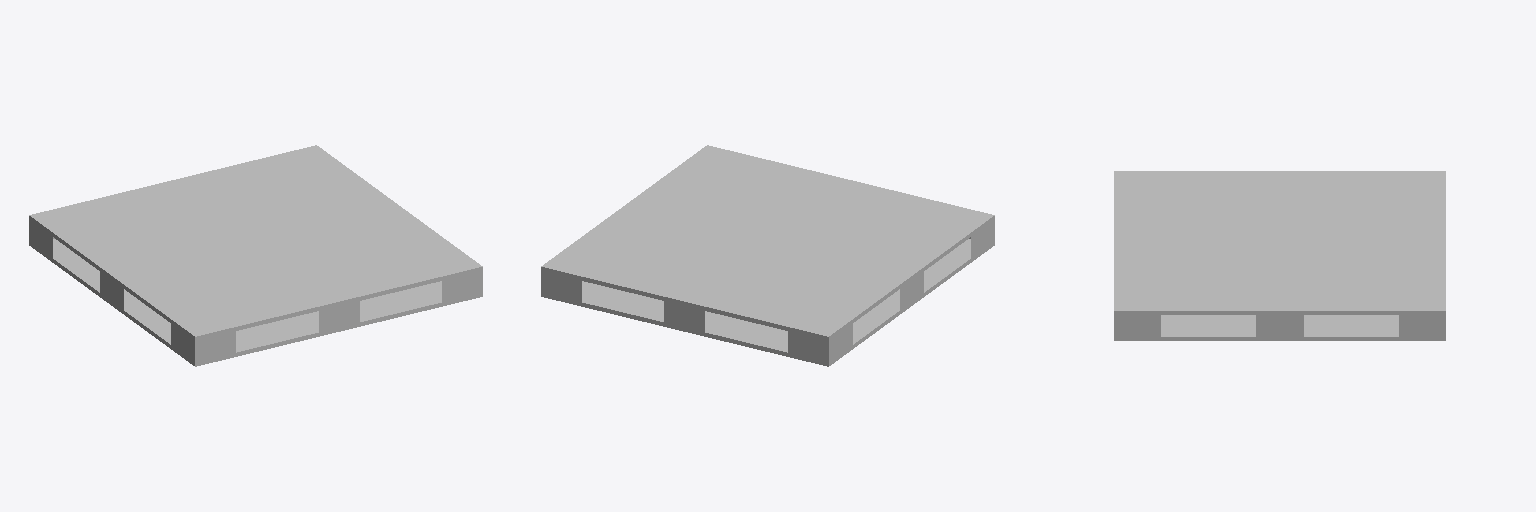
Rendered from palete.obj.
3 renders of one model, left to right at view 1: azimuth 30°, elevation 25°; view 2: azimuth 150°, elevation 25°; view 3: azimuth 270°, elevation 25°, orthographic.
Parts seen in each view (by area): view 1: Cube.9; view 2: Cube.9; view 3: Cube.9.
Part boxes in pixels (x1,y1,x2,y2): Cube.9: (29,145,482,366); Cube.9: (541,145,994,366); Cube.9: (1114,171,1445,340).
Bounding box in the file's own units: 200 × 20 × 200.